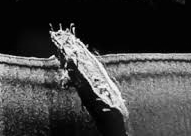ship: (47, 22, 132, 120)
